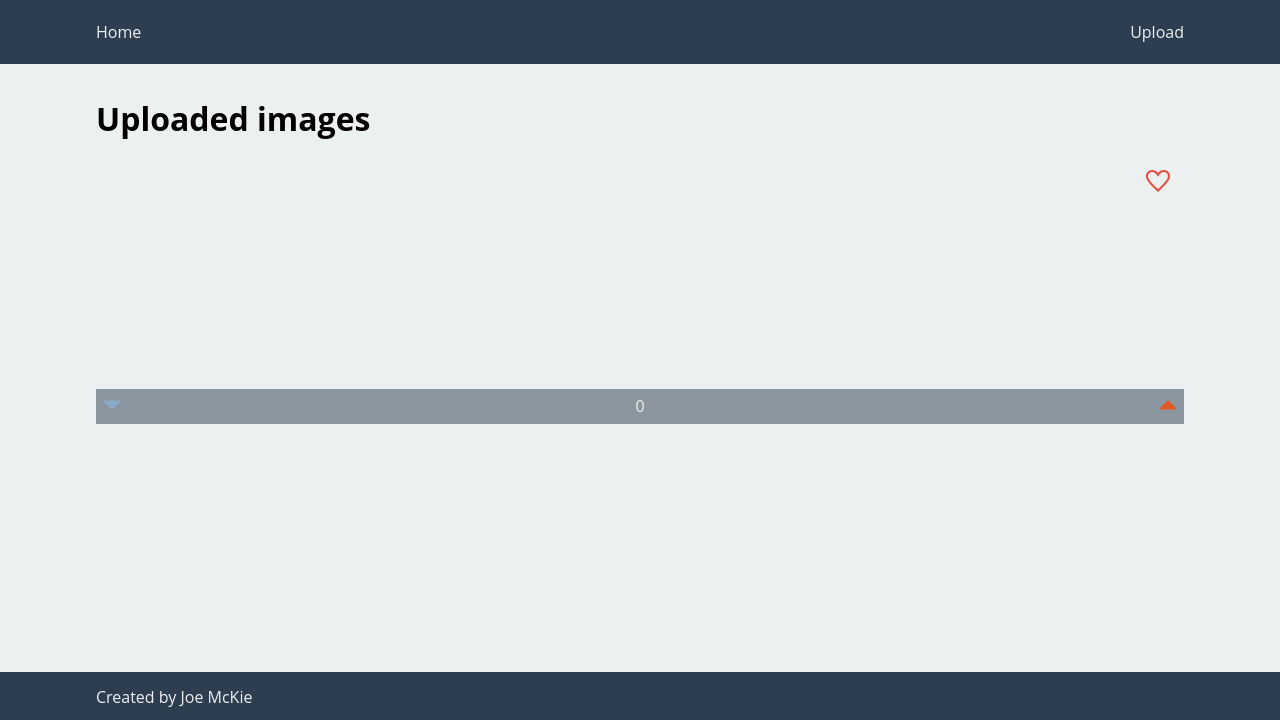
Test case: votes an image up when the upvote button is pressed
Expected: the text "0" is shown, [635,397,645,416]
Click the button with test id "upvote-button": click(1168, 406) [1160,398,1176,416]
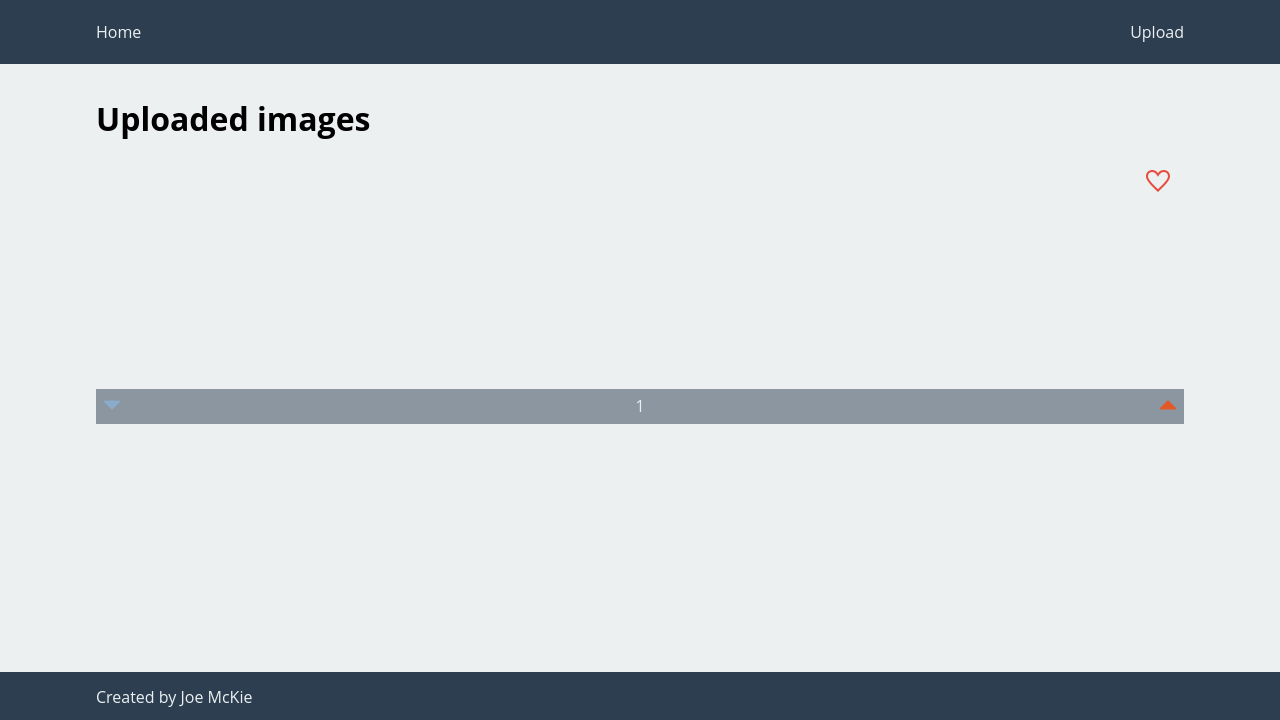
Expected: the text "1" is shown, [635,397,645,416]
